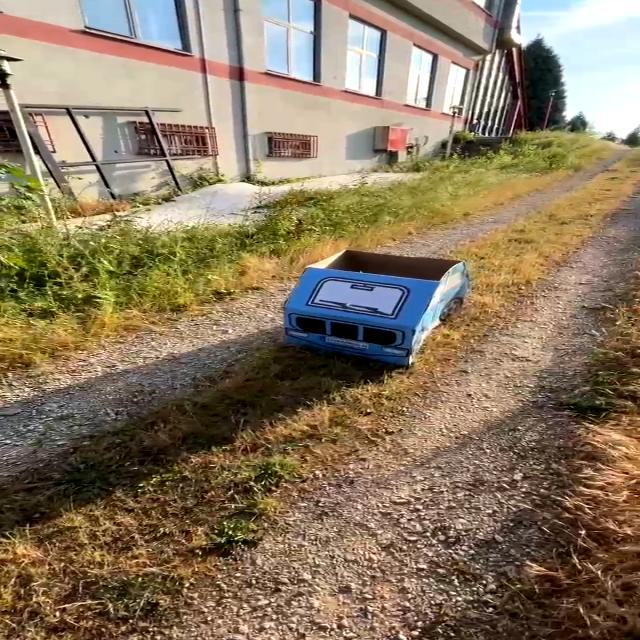blue_car: (231, 230, 514, 405)
